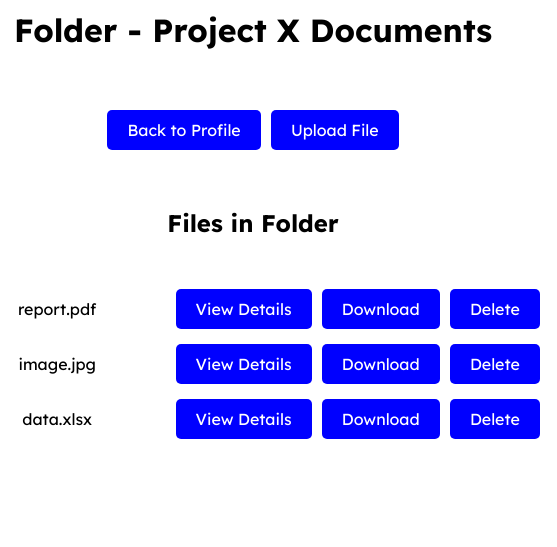
FolderDetails › should display error and keep files on list if delete API fails
The image size is (557, 547).
Expected: the text "report.pdf" is shown, [18,299,96,319]
Click the button "Delete" in the row of "data.xlsx".
click(495, 419)  # box [450,399,540,439]
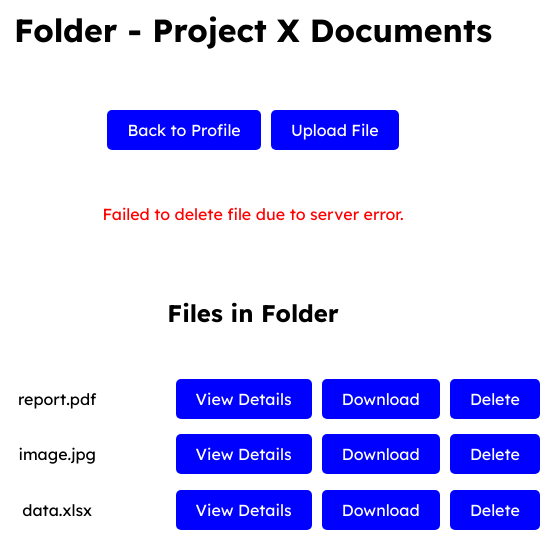
Expected: the text "report.pdf" is shown, [18,389,96,409]
Expected: the text "Failed to delete file due to server error." is shown, [102,204,404,224]
